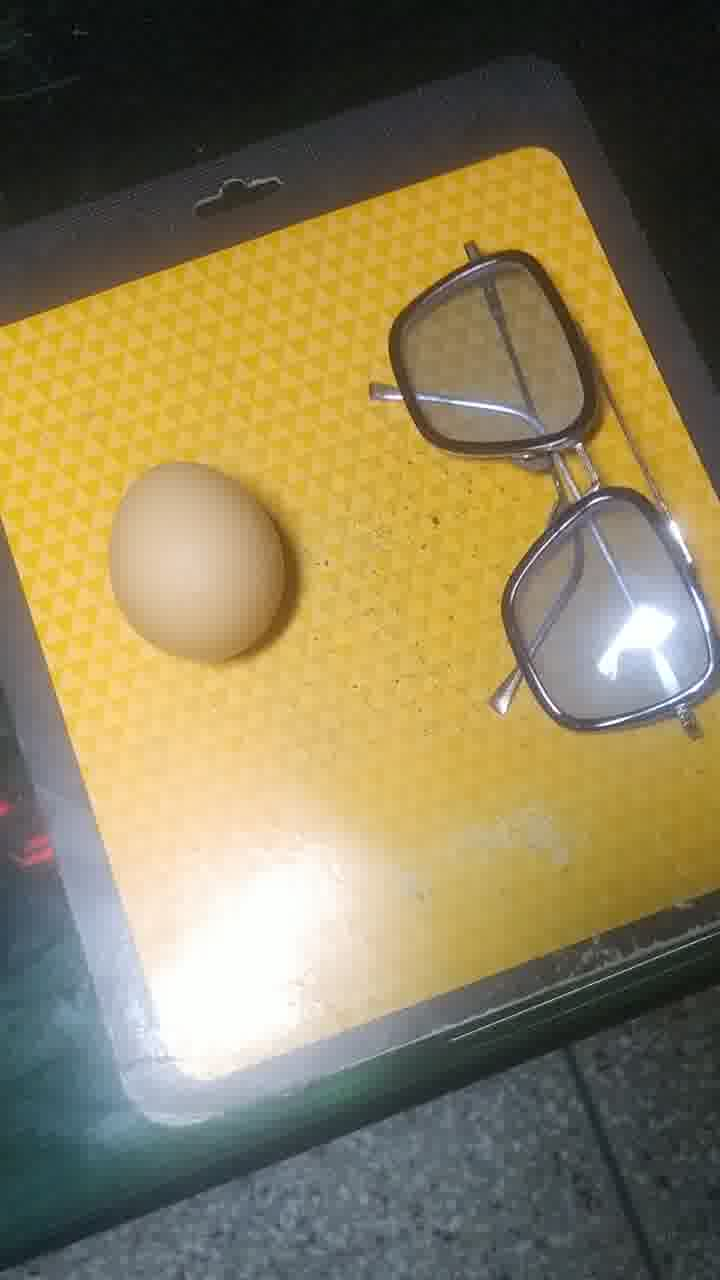egg: (91, 456, 311, 678)
sunglass: (363, 247, 717, 744)
